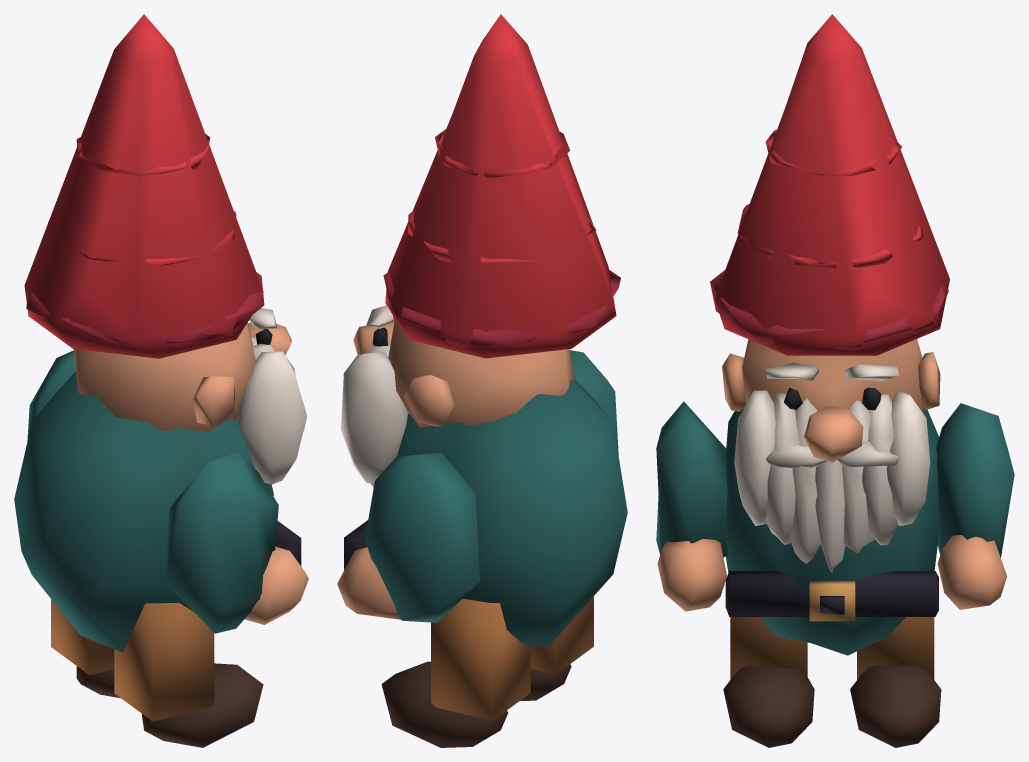
File: prop.gnome.lod1.glb
The picture shows the model from 3 angles, left to right: view 1: azimuth 30°, elevation 25°; view 2: azimuth 150°, elevation 25°; view 3: azimuth 270°, elevation 25°; orthographic projection.
Size of the model in its own units: 0.4492 by 1.18 by 0.5372.
